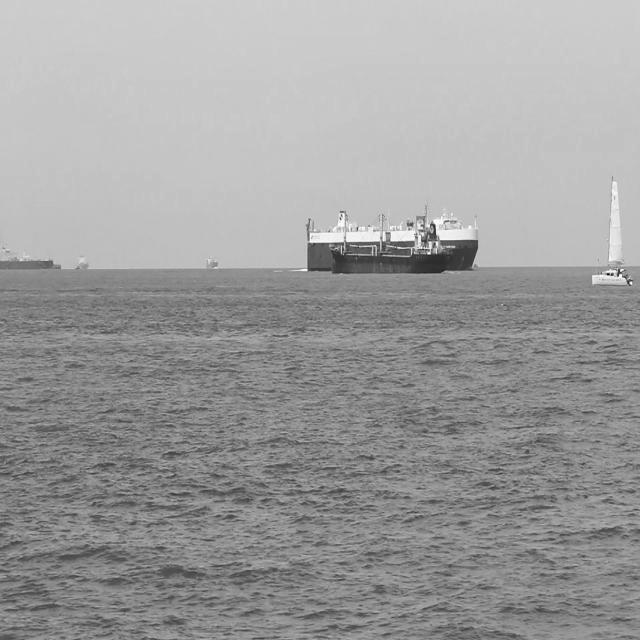ship: (304, 204, 481, 275), (326, 200, 457, 280), (592, 168, 636, 288), (0, 246, 56, 274), (71, 250, 90, 274), (204, 252, 220, 272)
